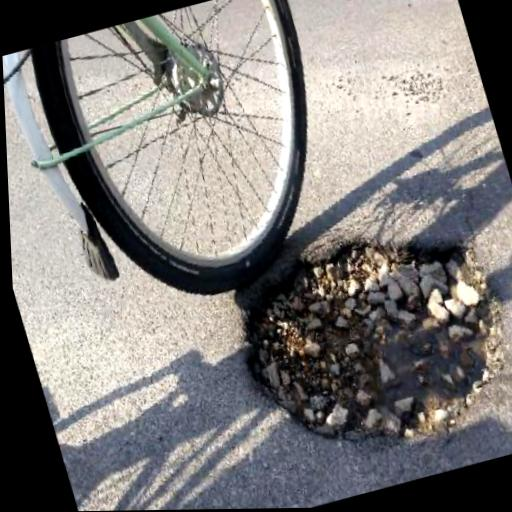pothole: (212, 203, 512, 477)
